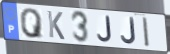3: (70, 9, 90, 46)
I: (141, 16, 151, 49)
J: (120, 17, 138, 46), (96, 15, 113, 43)
K: (46, 10, 66, 42)
Q: (19, 8, 45, 40)
